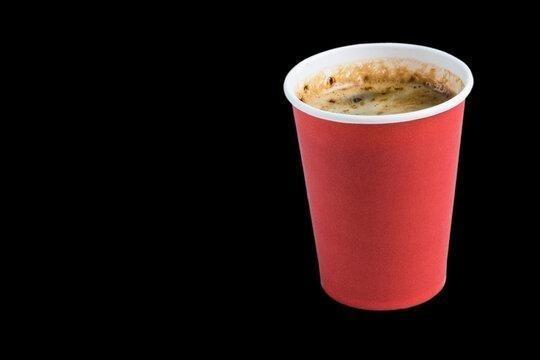cup-disposable: (282, 39, 476, 312)
